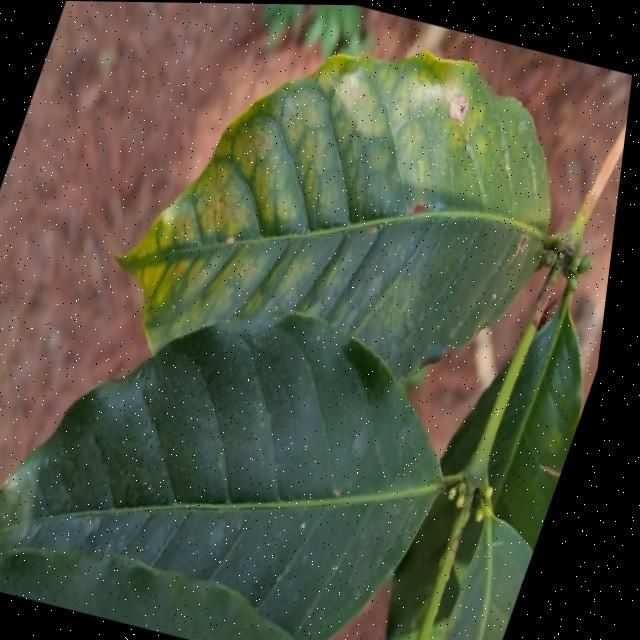leaves: (79, 0, 614, 480), (0, 237, 486, 640)
